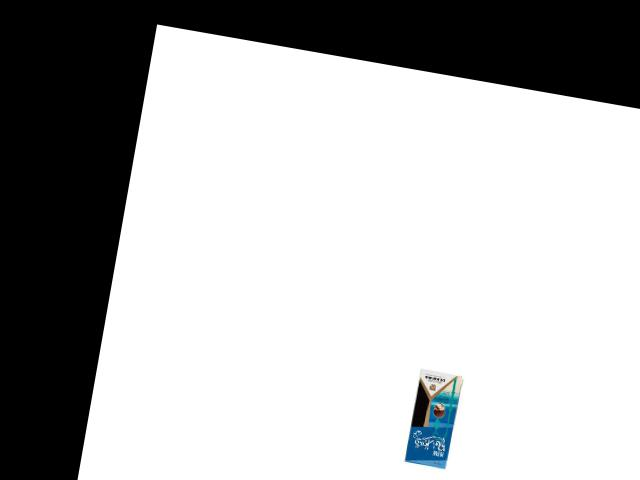chocolate: (401, 365, 464, 471)
